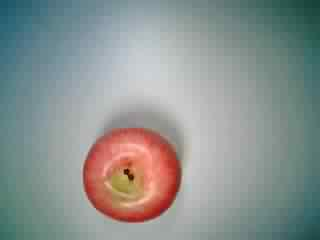apple: (80, 127, 183, 224)
